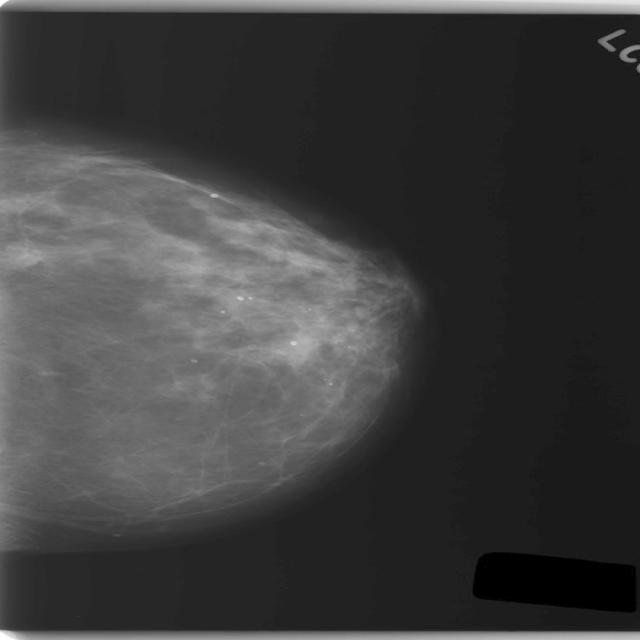tumour: (0, 243, 44, 274)
